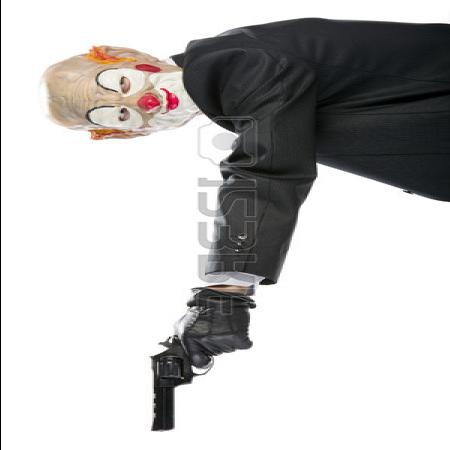Pistol: (133, 326, 262, 431)
